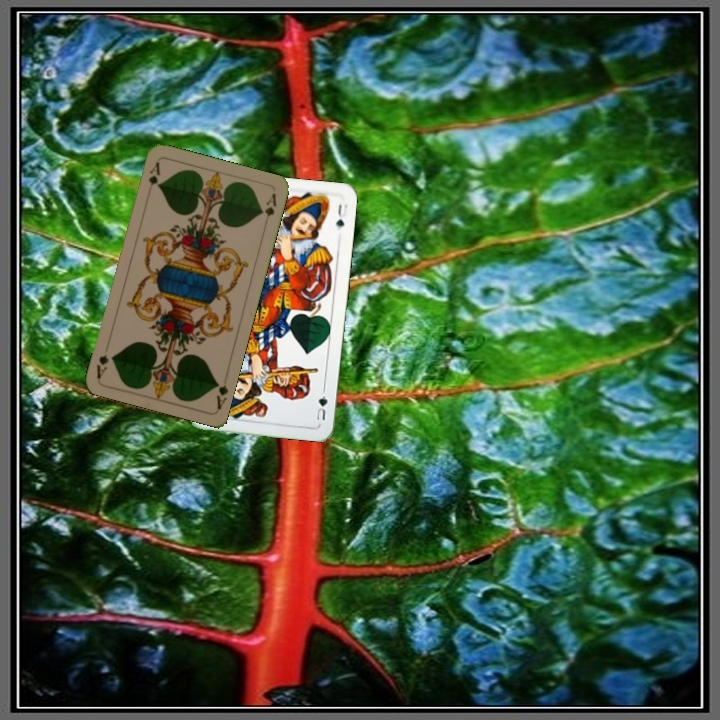GA: (144, 158, 163, 197), (211, 377, 230, 412)
GU: (312, 392, 330, 424)
